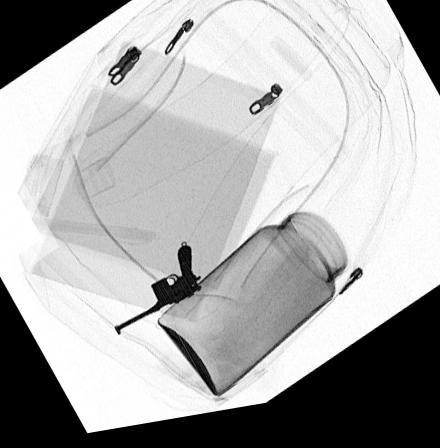Gun: (111, 251, 204, 340)
